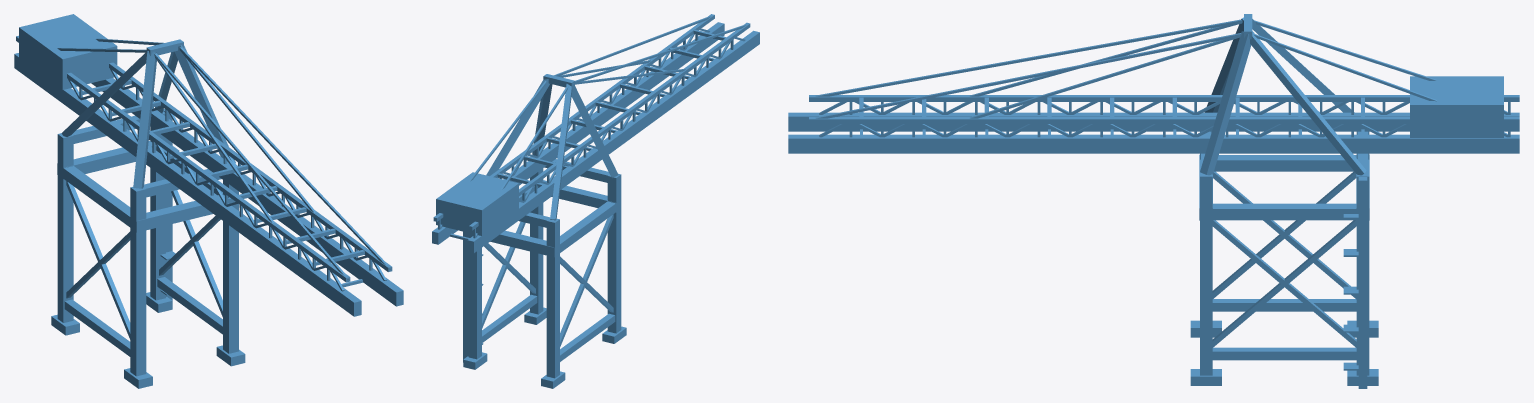
Rendered from GruaSTS.fbx.
3 renders of one model, left to right at view 1: azimuth 30°, elevation 25°; view 2: azimuth 150°, elevation 25°; view 3: azimuth 270°, elevation 25°, orthographic. The views are drawn at different scales.
Parts seen in each view (by area): view 1: GruaSTS; view 2: GruaSTS; view 3: GruaSTS.
Part boxes in pixels (x1,y1,x2,y2): GruaSTS: (14,14,403,388); GruaSTS: (432,14,759,388); GruaSTS: (788,14,1519,388).
Size of the model in its own units: 2670 by 7080 by 14000.
